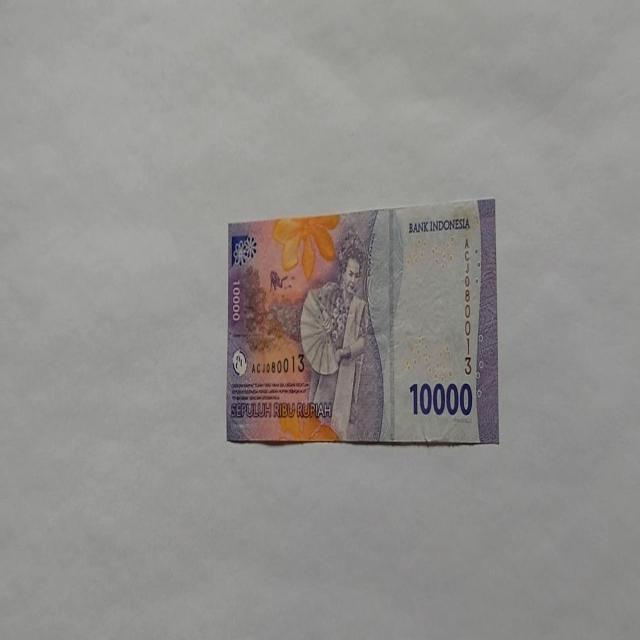Kertas: (226, 196, 498, 446), (409, 378, 473, 418)
